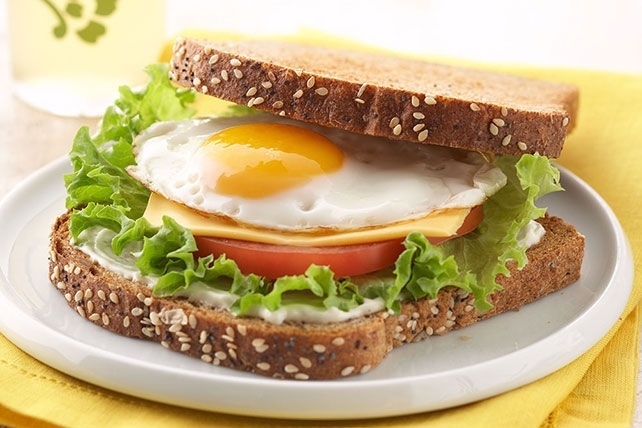background: (46, 25, 587, 253)
